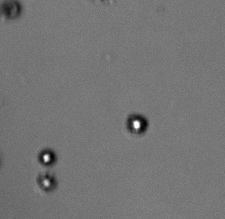Dead Cell: (1, 1, 22, 19)
Living Cell: (126, 114, 148, 135), (38, 148, 57, 166), (37, 172, 56, 190)
